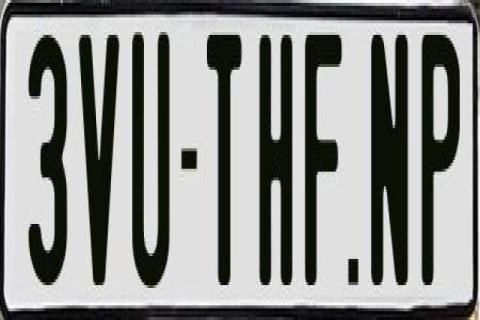0: (26, 26, 66, 276)
F: (303, 29, 339, 294)
H: (258, 35, 291, 288)
N: (368, 26, 408, 291)
P: (418, 26, 462, 294)
T: (204, 32, 244, 288)
U: (130, 29, 174, 303)
V: (78, 35, 122, 288)
